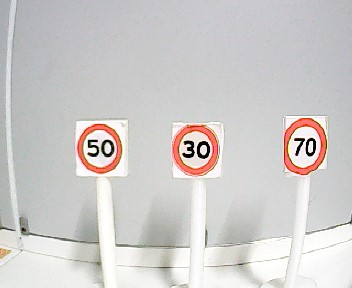30-bord: (172, 123, 220, 176)
50-bord: (78, 123, 124, 174)
70-bord: (282, 117, 326, 174)
